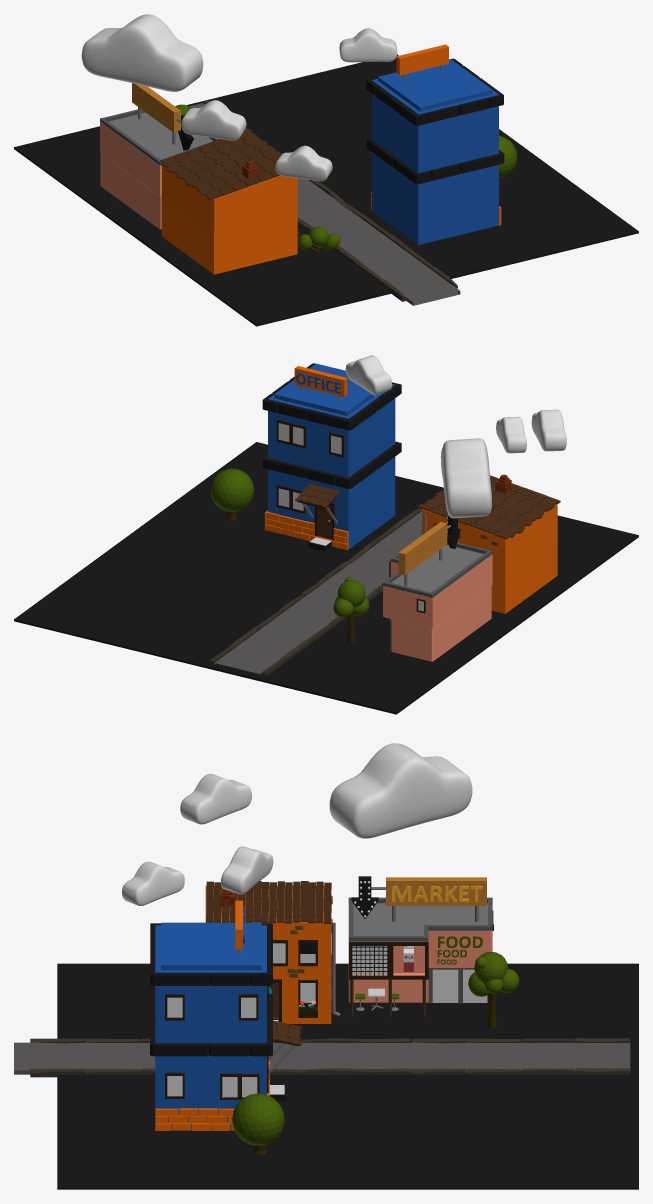
File: street_1.fbx
3 renders of one model, top to bottom at view 1: azimuth 30°, elevation 25°; view 2: azimuth 150°, elevation 25°; view 3: azimuth 270°, elevation 25°, orthographic. The views are drawn at different scales.
Parts seen in each view (by area): view 1: floor, office, home, market, road, cloud 3, cloud 2.001, cloud 1, cloud 2, tree 1, tree 2; view 2: floor, office, market, home, road, cloud 3, tree 2, tree, cloud 1, cloud 2.001, cloud 2; view 3: floor, office, road, market, home, cloud 3, cloud 2.001, tree 2, tree, cloud 2, cloud 1.
Boxes of the visible parts, x1,y1,x2,y2 form: floor: (14, 54, 638, 326); office: (366, 44, 504, 244); home: (160, 128, 300, 274); market: (100, 83, 218, 229); road: (189, 100, 460, 305); cloud 3: (81, 14, 203, 91); cloud 2.001: (181, 100, 246, 140); cloud 1: (339, 28, 397, 62); cloud 2: (275, 145, 332, 181); tree 1: (298, 226, 340, 255); tree 2: (499, 135, 517, 184); floor: (14, 442, 638, 714); office: (262, 363, 401, 551); market: (382, 515, 492, 661); home: (418, 474, 560, 613); road: (209, 490, 442, 676); cloud 3: (440, 438, 491, 518); tree 2: (210, 468, 253, 520); tree: (333, 576, 369, 643); cloud 1: (345, 355, 392, 395); cloud 2.001: (531, 409, 566, 451); cloud 2: (496, 416, 526, 453); floor: (57, 963, 638, 1189); office: (150, 900, 301, 1130); road: (14, 1038, 630, 1077); market: (348, 876, 493, 1016); home: (205, 881, 340, 1023); cloud 3: (329, 743, 472, 838); cloud 2.001: (180, 773, 251, 824); tree 2: (232, 1093, 284, 1155); tree: (468, 951, 519, 1027); cloud 2: (122, 861, 184, 905); cloud 1: (221, 846, 273, 894).
Size of the model in its own units: 5647 by 2665 by 6446.
